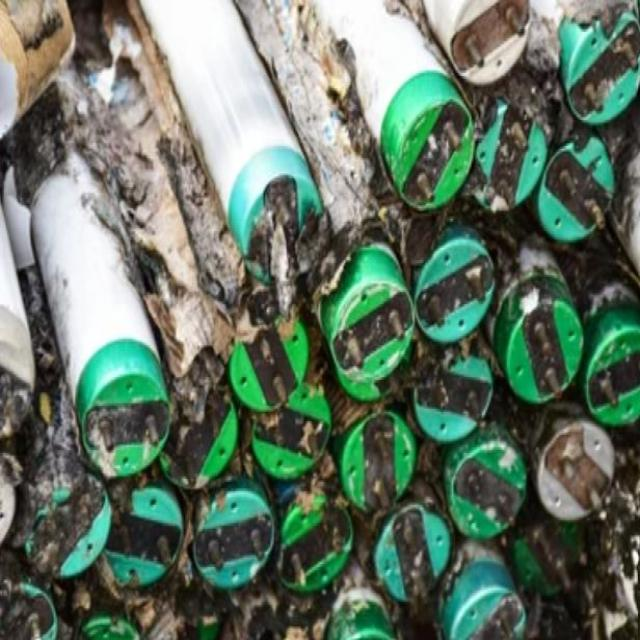electronic: (0, 0, 639, 638), (120, 0, 326, 315), (295, 0, 475, 213), (417, 0, 531, 87)
